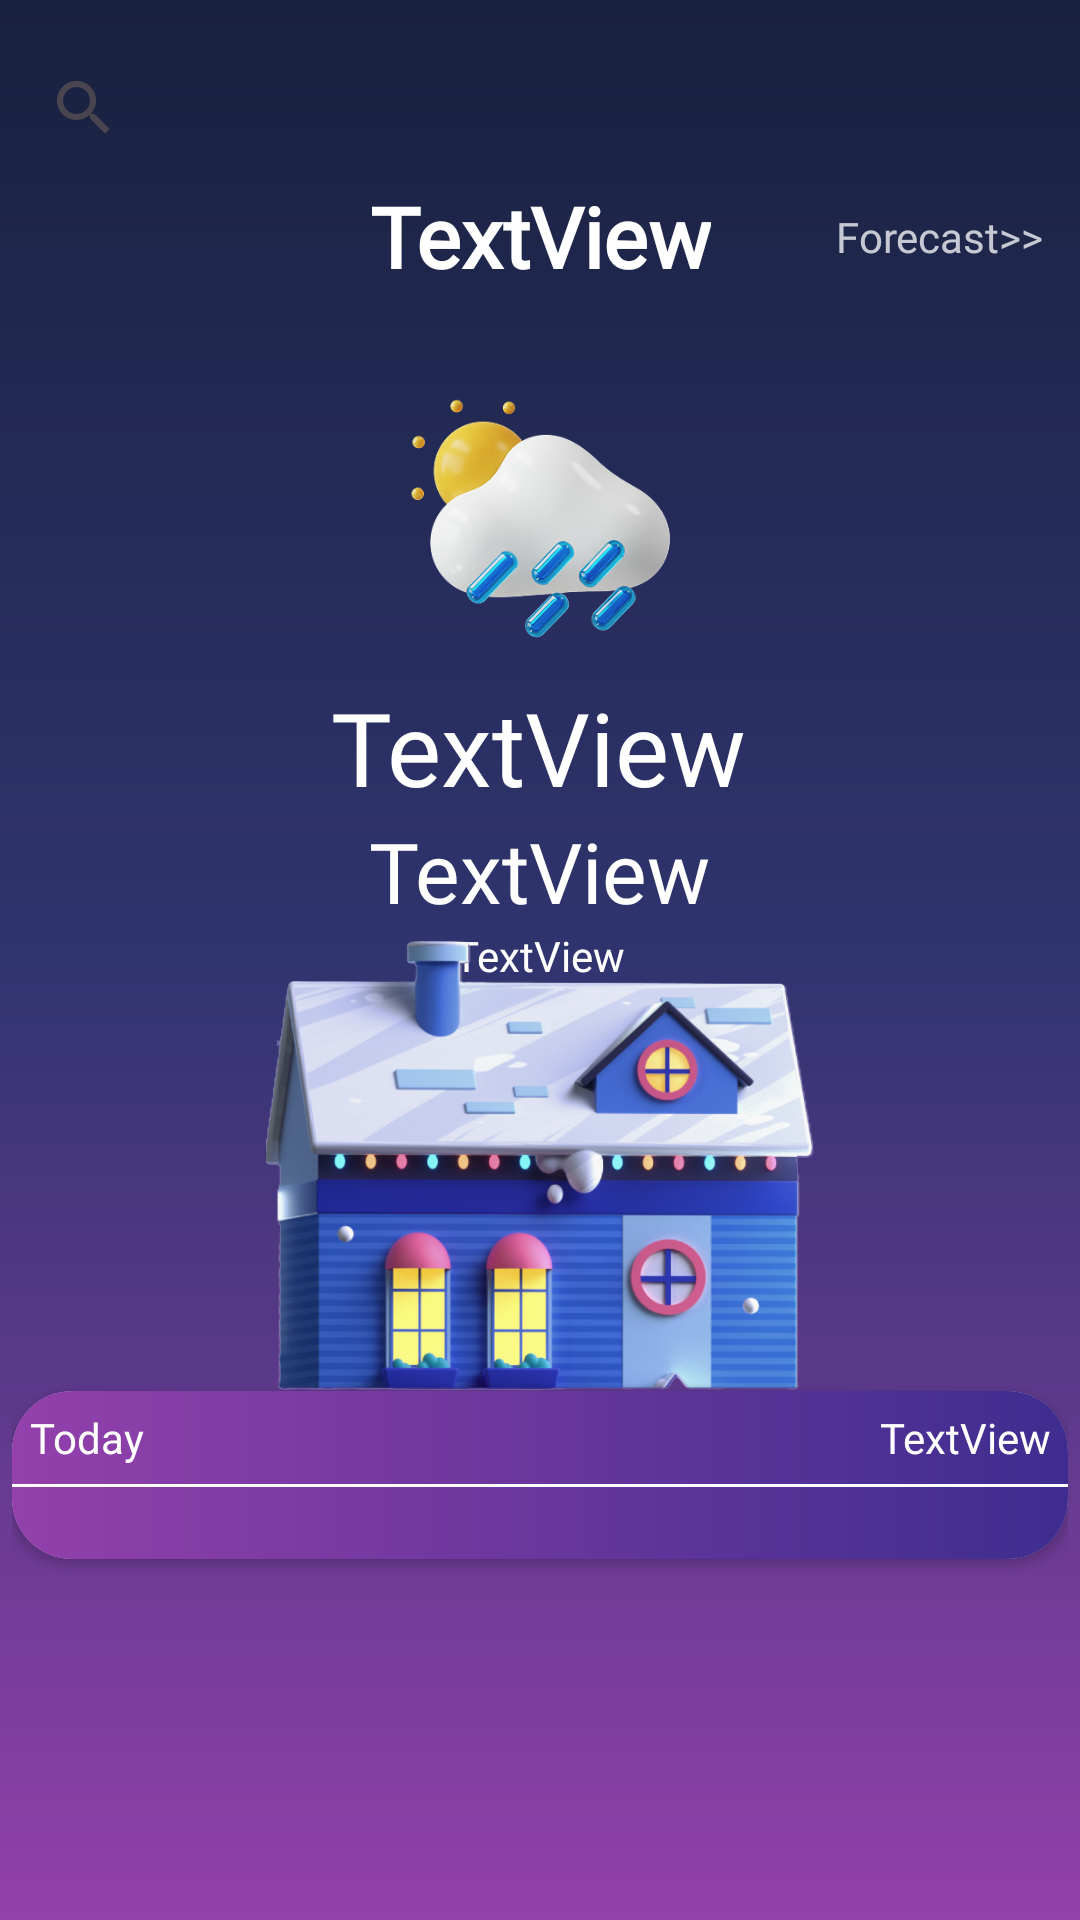

Screen size 1080×1920. Icon name, then its box in pixels as [x1=x1, y1=y1, x2=x2, y2=y2]:
sunny rainy: [x1=411, y1=399, x2=670, y2=638]
